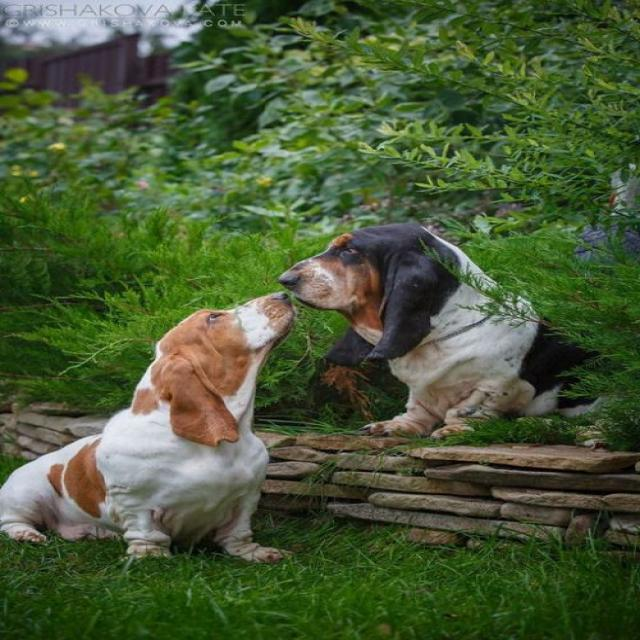Dogs: (2, 288, 312, 568), (279, 220, 640, 446)
